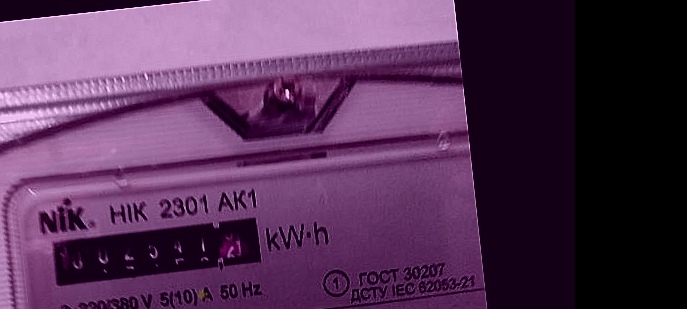0: (66, 244, 86, 272), (93, 239, 110, 267)
1: (193, 226, 208, 254)
2: (117, 236, 136, 262)
4: (169, 230, 184, 254)
5: (142, 232, 163, 262)
6: (221, 240, 238, 259)
screen: (38, 202, 277, 298)
